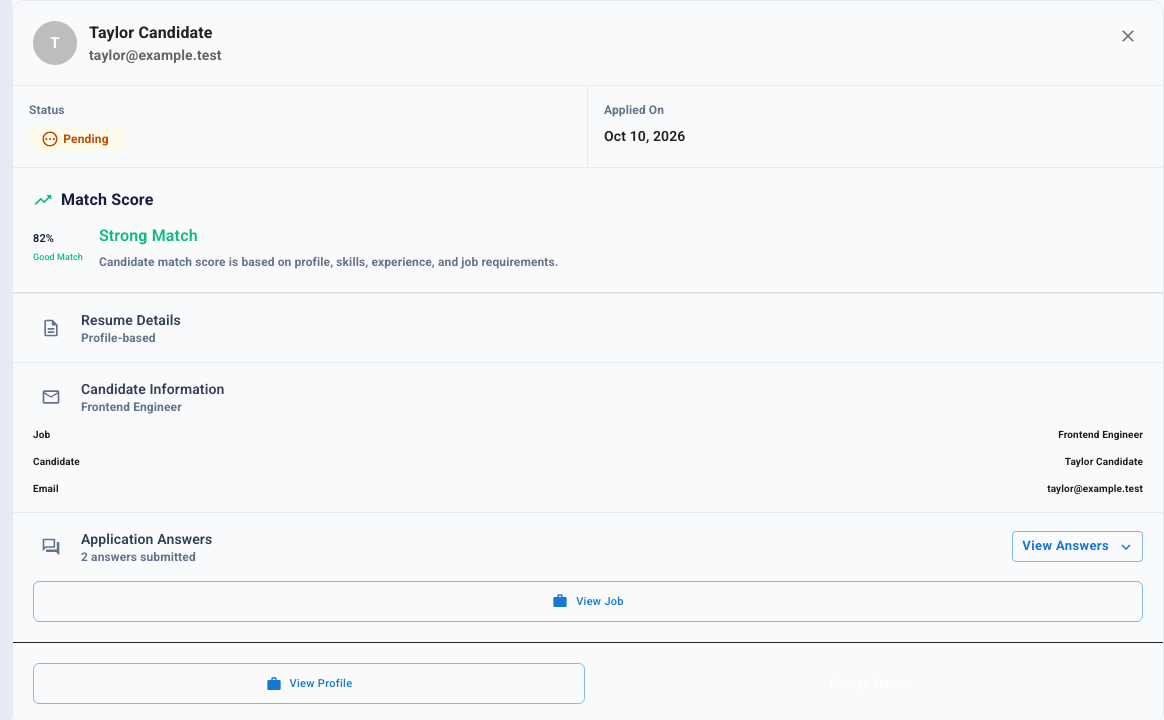
Test: company application details › expands answers and navigates to the applied job
Step 1. Click the button "View Answers" → (1078, 547), box x1=1012 y1=531 x2=1143 y2=562
(page scrolled)
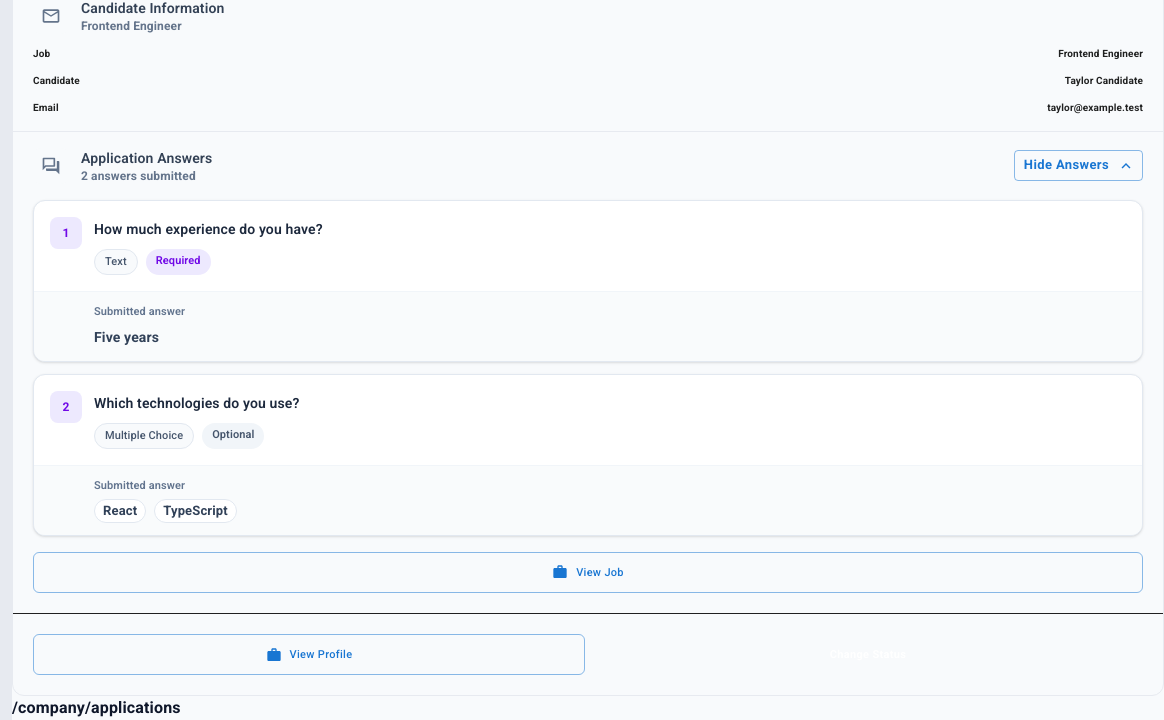
Now the text "How much experience do you have?" is shown, box x1=94 y1=221 x2=323 y2=237
Now the text "Five years" is shown, box x1=94 y1=329 x2=159 y2=345
Now the text "React" is shown, box x1=103 y1=503 x2=137 y2=518
Step 2. Click the button "View Job" → (588, 572), box x1=33 y1=552 x2=1143 y2=593
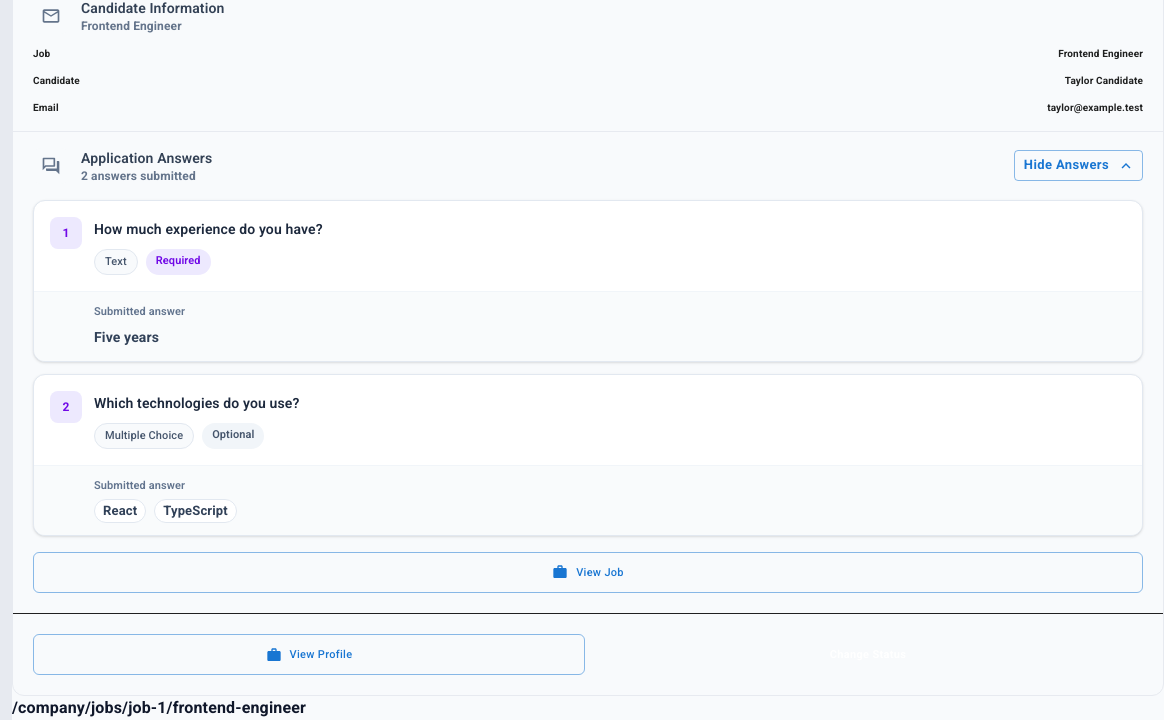
Now the text with test id "location" reads "/company/jobs/job-1/frontend-engineer", box x1=12 y1=698 x2=306 y2=717
